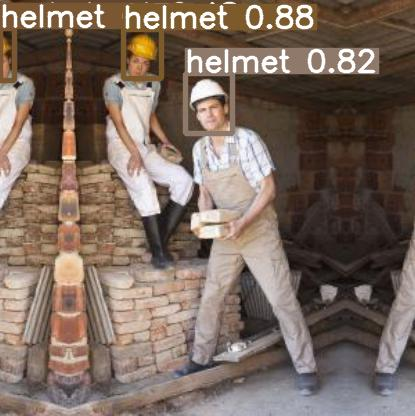helmet: (185, 73, 232, 133), (123, 29, 161, 78), (0, 28, 14, 80), (48, 0, 91, 9)
